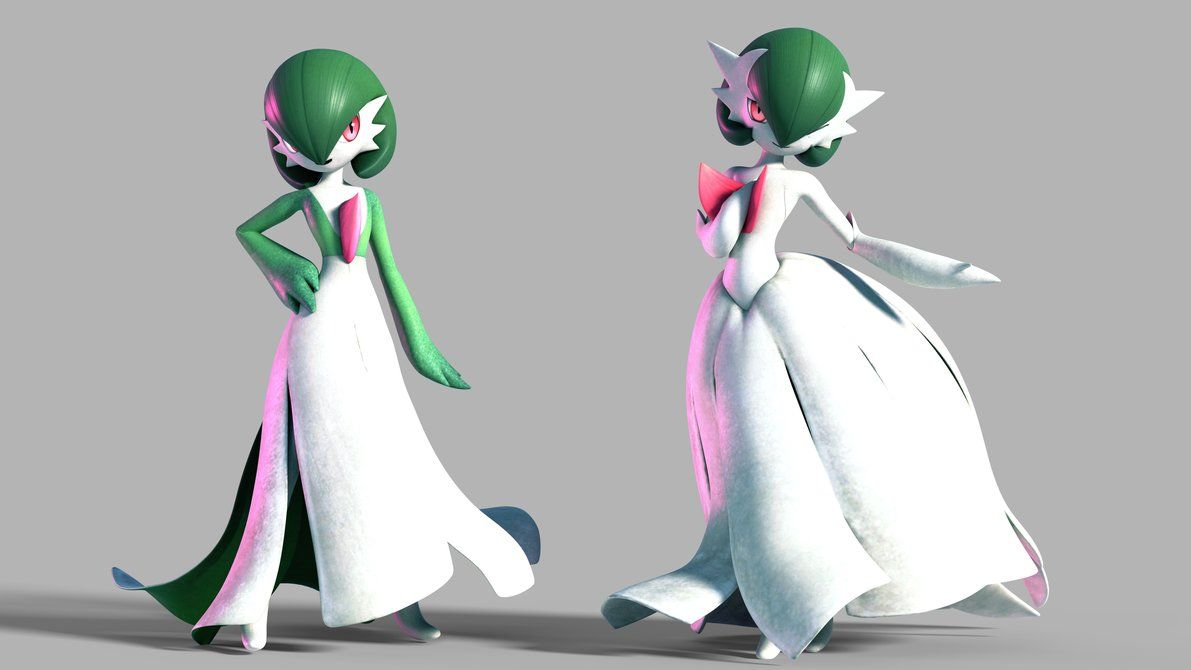gardevoir: (104, 34, 547, 664)
